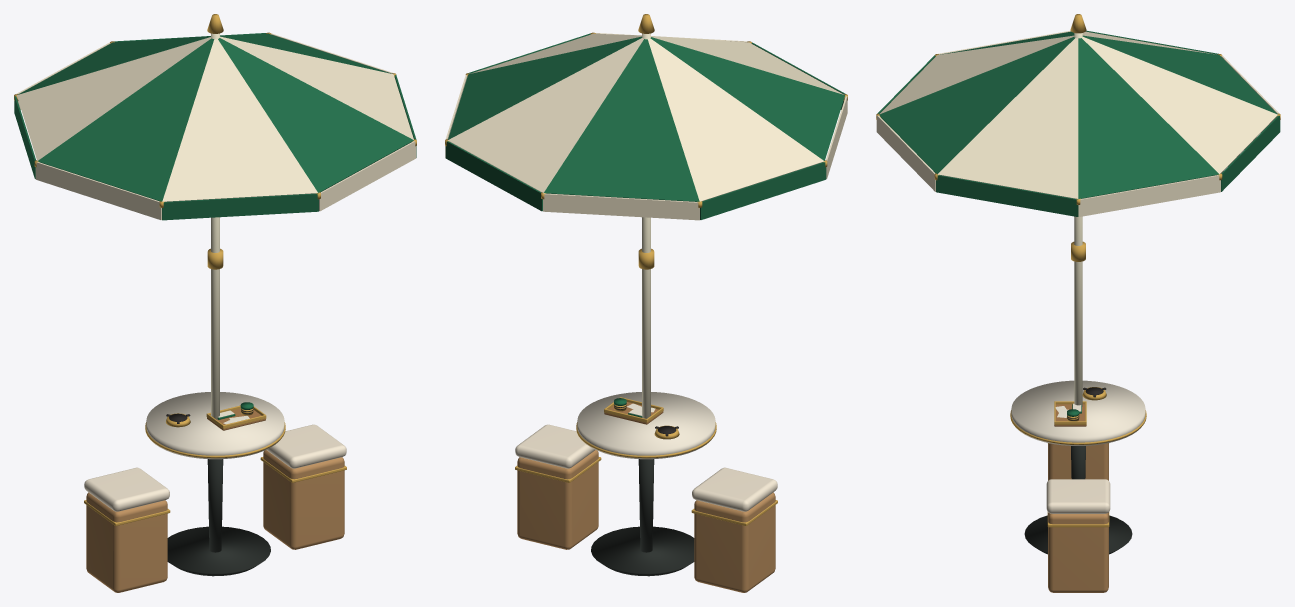
The model's file is rooftop_parasol_table.glb.
The picture shows the model from 3 angles, left to right: view 1: azimuth 30°, elevation 25°; view 2: azimuth 150°, elevation 25°; view 3: azimuth 270°, elevation 25°; orthographic projection. The views are drawn at different scales.
Parts seen in each view (by area): view 1: Gore5, Gore4, Gore6, Gore3, Stool0, Stool1, TableTop, Gore7, TableFoot, Valance5, Gore2, Cushion0 (+7 smaller); view 2: Gore2, Gore3, Gore1, Gore4, Stool0, Stool1, TableTop, Gore0, TableFoot, Valance2, Gore5, Cushion0 (+7 smaller); view 3: Gore0, Gore7, Gore1, Gore6, TableTop, Stool1, Gore2, Gore5, Valance7, Valance0, Cushion1, Stool0 (+4 smaller).
Boxes of the visible parts, x1,y1,x2,y2 form: Gore5: (162,39,317,201); Gore4: (37,38,214,201); Gore6: (218,38,413,192); Gore3: (17,37,211,160); Stool0: (86,492,167,592); Stool1: (263,450,344,549); TableTop: (146,392,284,459); Gore7: (220,36,413,139); TableFoot: (167,526,270,576); Valance5: (162,193,318,220); Gore2: (18,36,210,94); Cushion0: (84,467,169,511); Gore2: (544,39,699,201); Gore3: (647,38,824,201); Gore1: (448,38,643,192); Gore4: (650,37,844,160); Stool0: (694,492,775,592); Stool1: (517,450,598,549); TableTop: (577,392,715,459); Gore0: (448,36,641,139); TableFoot: (591,526,694,576); Valance2: (543,193,699,220); Gore5: (651,36,843,94); Cushion0: (692,467,777,511); Gore0: (1078,38,1218,198); Gore7: (938,38,1078,198); Gore1: (1082,37,1277,174); Gore6: (879,37,1074,174); TableTop: (1011,380,1145,445); Stool1: (1048,512,1108,592); Gore2: (1082,35,1277,114); Gore5: (879,35,1074,114); Valance7: (936,175,1078,216); Valance0: (1078,175,1220,216); Cushion1: (1046,479,1110,513); Stool0: (1048,443,1108,480).
Bounding box in the file's own units: 1.5 × 2.15 × 1.5.
